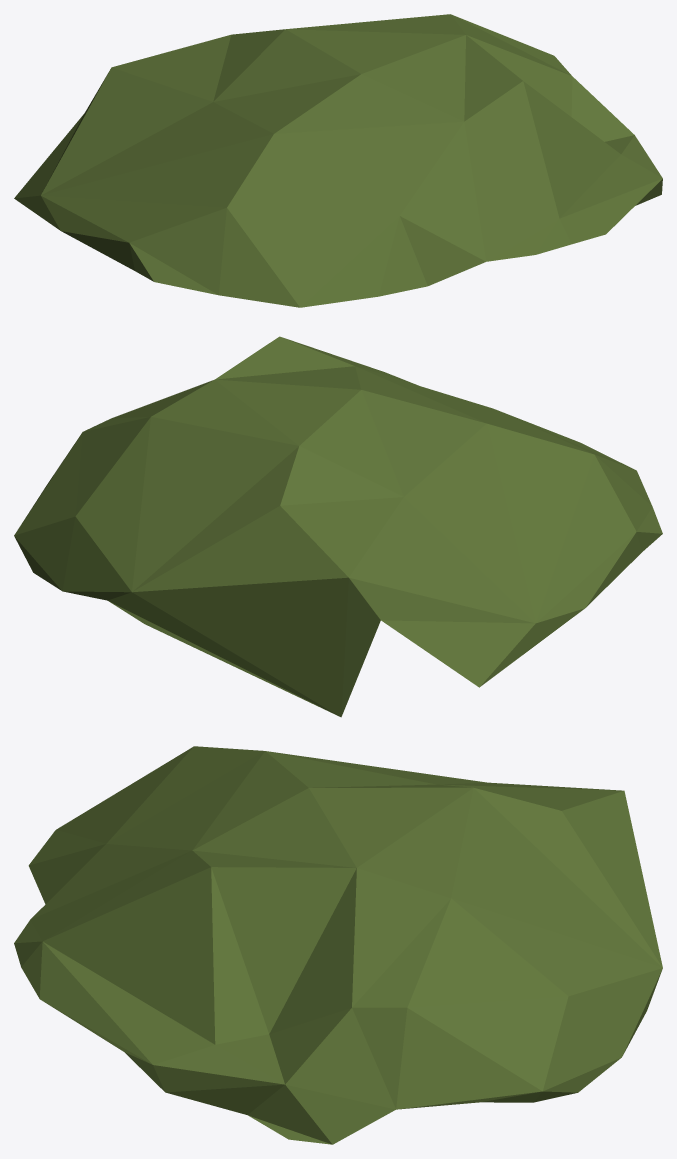
Rendered from SM_Prop_Sack_Filling_04.glb.
3 renders of one model, top to bottom at view 1: azimuth 30°, elevation 25°; view 2: azimuth 150°, elevation 25°; view 3: azimuth 270°, elevation 25°, orthographic. The views are drawn at different scales.
Parts seen in each view (by area): view 1: SM_Prop_Sack_Filling_04; view 2: SM_Prop_Sack_Filling_04; view 3: SM_Prop_Sack_Filling_04.
Part boxes in pixels (<box>): SM_Prop_Sack_Filling_04: <box>14,14,662,307</box>; SM_Prop_Sack_Filling_04: <box>14,336,662,717</box>; SM_Prop_Sack_Filling_04: <box>14,746,662,1144</box>.
Bounding box in the file's own units: 0.6852 × 0.2341 × 0.5844.
1 material, 1 textured.
